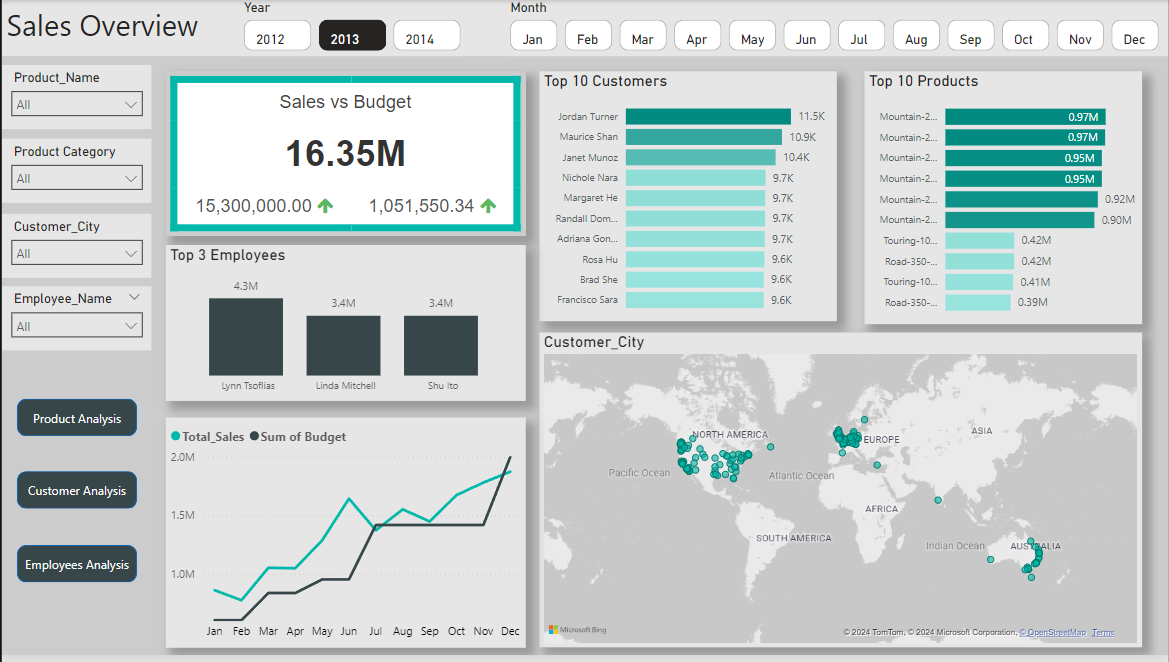

The page's visual inventory and layout, read from the dashboard file:
{"tool":"powerbi","page":{"name":"Sales OverView","canvas":[1280,720],"ordinal":0},"visuals":[{"type":"textbox","box":[0,0,1280,61.4],"z":0},{"type":"advancedSlicerVisual","fields":{"Values":["DIM_Date.Year"]},"box":[260.7,0,249.7,61.7],"z":1000},{"type":"advancedSlicerVisual","fields":{"Values":["Sorted_Months.Month"]},"box":[553,0,727.3,61.7],"z":2000},{"type":"slicer","fields":{"Values":["DIM_Products.Product_Name"]},"box":[0,71.4,164.3,70],"z":3000},{"type":"slicer","fields":{"Values":["DIM_Cusomers.Customer_City"]},"box":[0,234.3,164.3,70],"z":4000},{"type":"slicer","fields":{"Values":["DIM_Employees.Full_Name"]},"box":[0,314.3,164.3,70],"z":5000},{"type":"slicer","fields":{"Values":["DIM_Products.Category"]},"box":[0,152.9,164.3,70],"z":6000},{"type":"BBED0A4D4D8D44CE93CF2DAFADEE466C","title":"Total Sales","fields":{"actual":["Sum(Fact_Internet_Sales.SalesAmount)"],"target1":["Sum(Budget.Budget)"],"target2":["Budget.Target"]},"box":[179.8,78.2,395.2,181.1],"z":7000},{"type":"clusteredBarChart","title":"Top 10 Customers","fields":{"Category":["DIM_Cusomers.Full_Name"],"Y":["Fact_Internet_Sales.Total_Sales"]},"box":[590.1,78.2,326.6,274.4],"z":8000},{"type":"clusteredBarChart","title":"Top 10 Products","fields":{"Y":["Fact_Internet_Sales.Total_Sales"],"Category":["DIM_Products.Product_Name"]},"box":[946.5,78.3,305,277.5],"z":9000},{"type":"clusteredColumnChart","title":"Top 3 Employees","fields":{"Category":["DIM_Employees.Full_Name"],"Y":["Fact_Internet_Sales.Total_Sales"]},"box":[179.8,269,395.2,171.5],"z":10000},{"type":"map","fields":{"Category":["DIM_Cusomers.Customer_City"]},"box":[590.1,365,661.4,345.8],"z":11000},{"type":"lineChart","fields":{"Category":["Sorted_Months.Month"],"Y":["Fact_Internet_Sales.Total_Sales"],"Y2":["Sum(Budget.Budget)"]},"box":[179.8,458.3,395.2,252.5],"z":12000},{"type":"shape","box":[16.5,437.7,131.7,41.2],"z":13000},{"type":"shape","box":[16.5,517.3,131.7,41.2],"z":14000},{"type":"shape","box":[16.5,598.3,131.7,41.2],"z":15000}]}

Visuals, with their boxes in screenshot pixels (x1, y1, x2, y2), scaled from the page's 1280x720 canvas onto the 1169x662 screenshot:
textbox: [x1=0, y1=0, x2=1168, y2=56]
advancedSlicerVisual - DIM_Date.Year: [x1=238, y1=0, x2=466, y2=57]
advancedSlicerVisual - Sorted_Months.Month: [x1=505, y1=0, x2=1168, y2=57]
slicer - DIM_Products.Product_Name: [x1=0, y1=66, x2=150, y2=130]
slicer - DIM_Cusomers.Customer_City: [x1=0, y1=215, x2=150, y2=280]
slicer - DIM_Employees.Full_Name: [x1=0, y1=289, x2=150, y2=353]
slicer - DIM_Products.Category: [x1=0, y1=141, x2=150, y2=205]
"Total Sales" BBED0A4D4D8D44CE93CF2DAFADEE466C: [x1=164, y1=72, x2=525, y2=238]
"Top 10 Customers" clusteredBarChart: [x1=539, y1=72, x2=837, y2=324]
"Top 10 Products" clusteredBarChart: [x1=864, y1=72, x2=1143, y2=327]
"Top 3 Employees" clusteredColumnChart: [x1=164, y1=247, x2=525, y2=405]
map - DIM_Cusomers.Customer_City: [x1=539, y1=336, x2=1143, y2=654]
lineChart - Sorted_Months.Month x Fact_Internet_Sales.Total_Sales: [x1=164, y1=421, x2=525, y2=654]
shape: [x1=15, y1=402, x2=135, y2=440]
shape: [x1=15, y1=476, x2=135, y2=514]
shape: [x1=15, y1=550, x2=135, y2=588]
